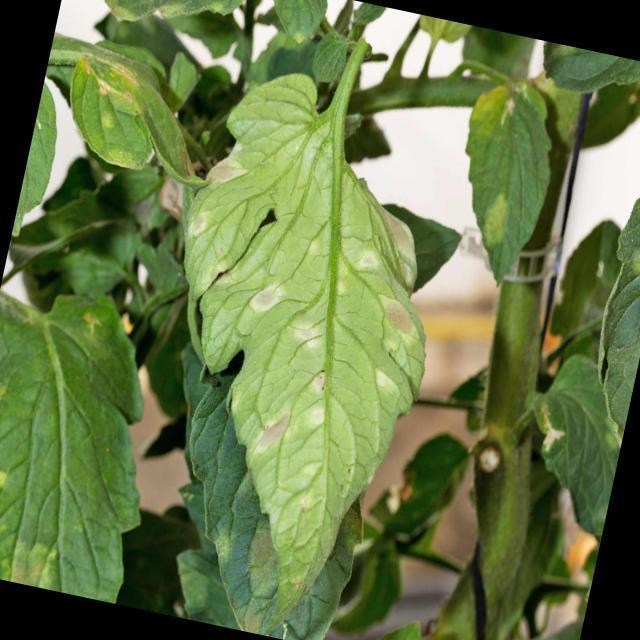Mosaic Virus: (130, 148, 457, 606), (444, 80, 576, 286)
